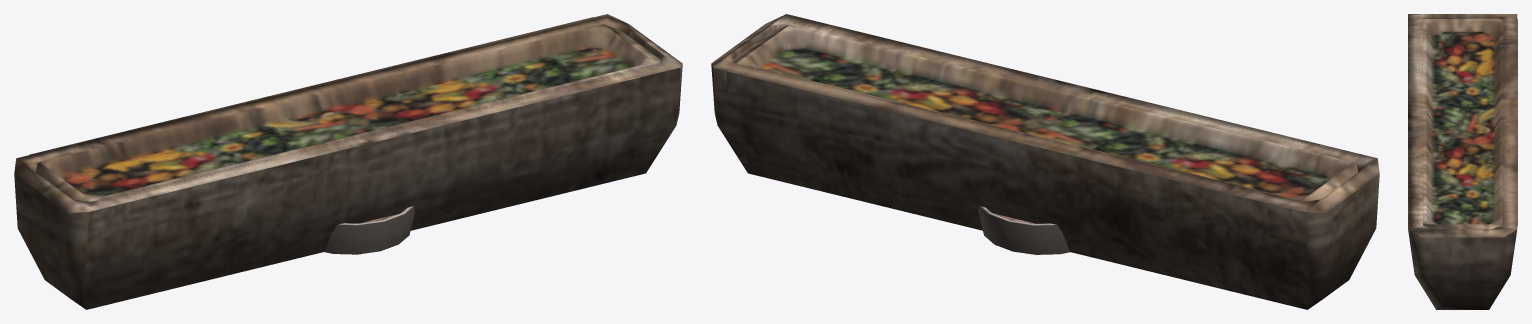
The model's file is futtertroege_01.fbx.
3 views of the same model, side by side, from view 1: azimuth 30°, elevation 25°; view 2: azimuth 150°, elevation 25°; view 3: azimuth 270°, elevation 25° (orthographic). The views are drawn at different scales.
Parts seen in each view (by area): view 1: futtertrog_02, futtertrog_01, futternapf; view 2: futtertrog_02, futtertrog_01, futternapf; view 3: futtertrog_01, futtertrog_02.
Part boxes in pixels (x1,y1,x2,y2): futtertrog_02: [14, 14, 682, 309]; futtertrog_01: [29, 17, 665, 207]; futternapf: [324, 206, 414, 254]; futtertrog_02: [711, 14, 1379, 309]; futtertrog_01: [726, 18, 1362, 242]; futternapf: [978, 206, 1070, 254]; futtertrog_01: [1409, 18, 1517, 229]; futtertrog_02: [1408, 14, 1517, 309].
Bounding box in the file's own units: 298 × 53.71 × 61.77.
